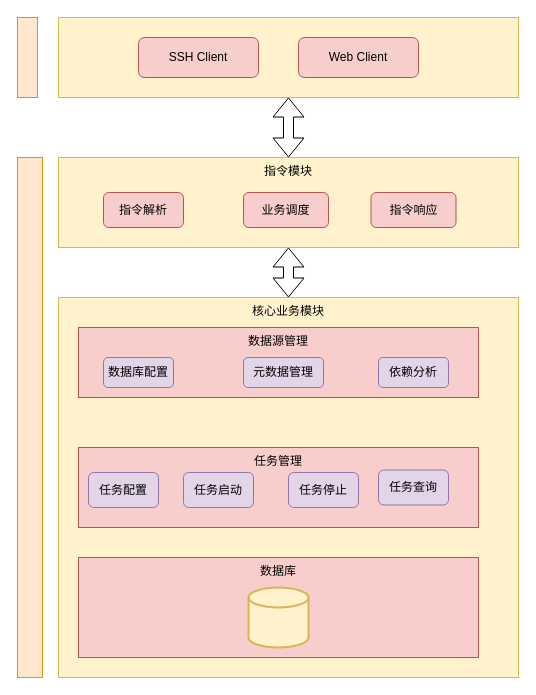
This 536x695 diagram has some shape labels left out. The shapes that lost their labels are listed below. From the top down, each one's centre as x and y in pixels, then its label:
(27,57): 客户端
(29,417): 服务端
(278,617): SQLite
